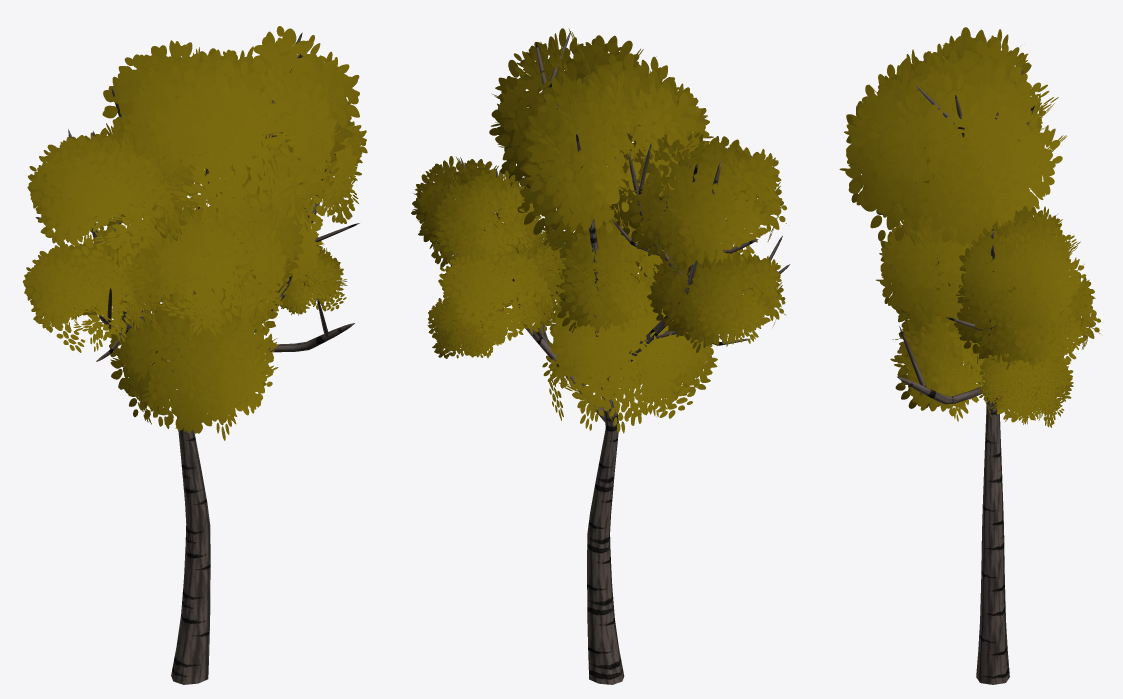
File: birch_tree_3.glb
3 views of the same model, side by side, from view 1: azimuth 30°, elevation 25°; view 2: azimuth 150°, elevation 25°; view 3: azimuth 270°, elevation 25° (orthographic). The views are drawn at different scales.
Visible parts, largest first — view 1: BirchTree_32; view 2: BirchTree_32; view 3: BirchTree_32.
Boxes of the visible parts, x1=… form: BirchTree_32: x1=22, y1=26, x2=367, y2=684; BirchTree_32: x1=411, y1=28, x2=790, y2=684; BirchTree_32: x1=839, y1=27, x2=1100, y2=684.
Size of the model in its own units: 3.43 by 5.75 by 2.27.
2 materials, 2 textured.
